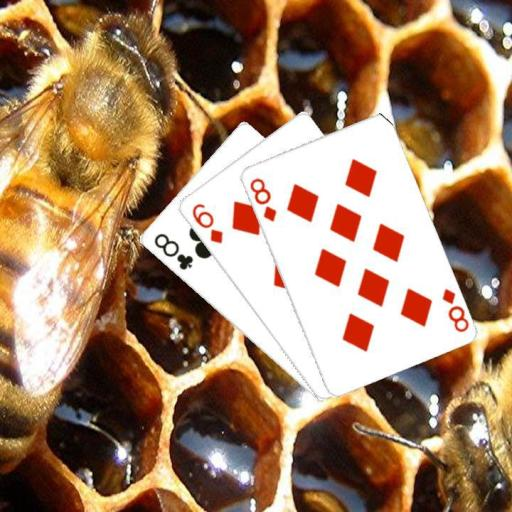6D: (188, 200, 224, 245)
8C: (150, 230, 195, 272)
8D: (246, 175, 278, 224), (438, 285, 470, 334)
